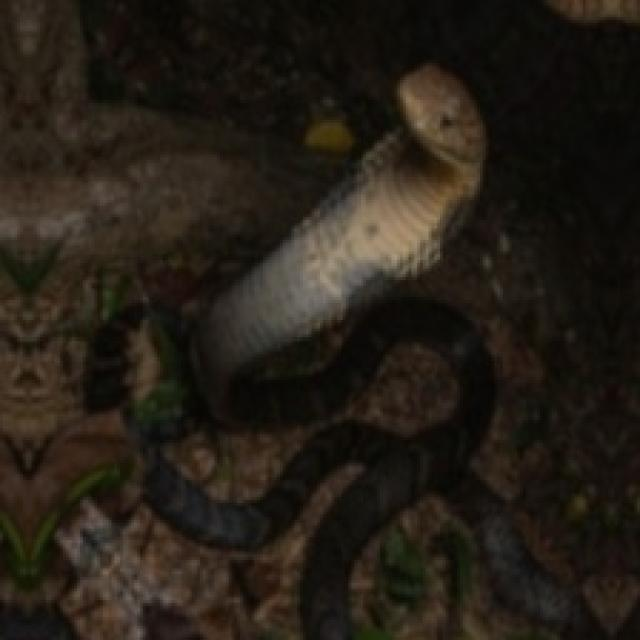king cobra: (63, 63, 494, 637)
